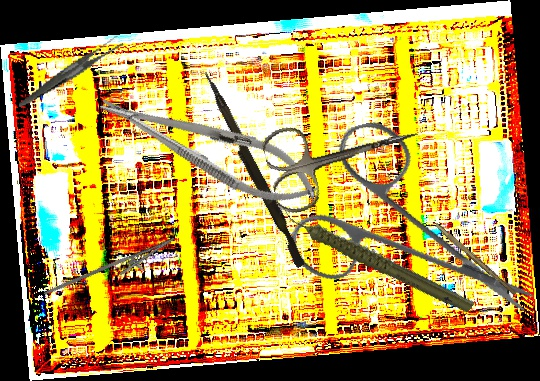Dressing Forceps: (8, 34, 132, 108)
Handpiece: (280, 170, 477, 348)
Iris Scissors: (265, 93, 537, 365), (258, 94, 430, 217)
Needle Holder: (90, 75, 328, 220), (43, 222, 181, 319)
Pusher: (195, 70, 311, 269)
Scalpel Handle: (433, 223, 518, 296)
